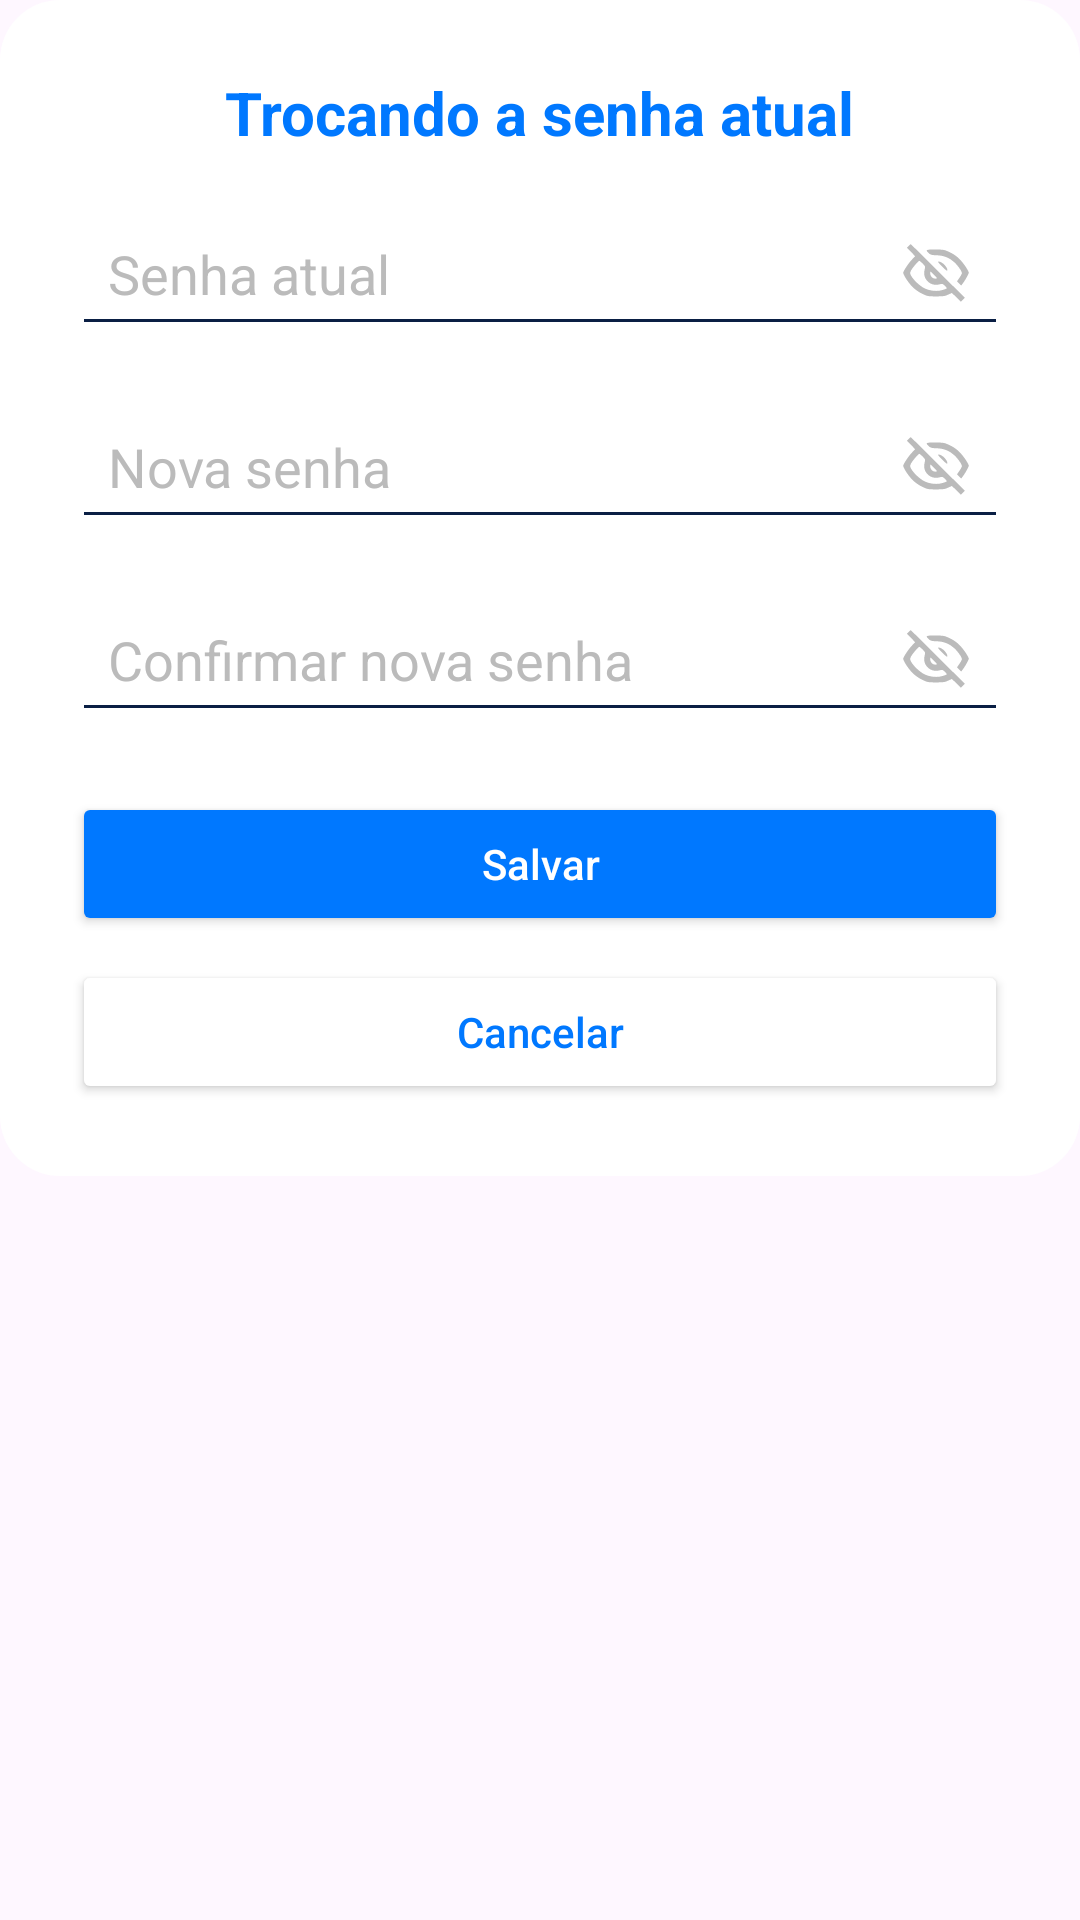

Screen size 1080px×1920px. Icon name, then its center in pixels as [x,y]:
Mostrar confirmação: [936,659]
